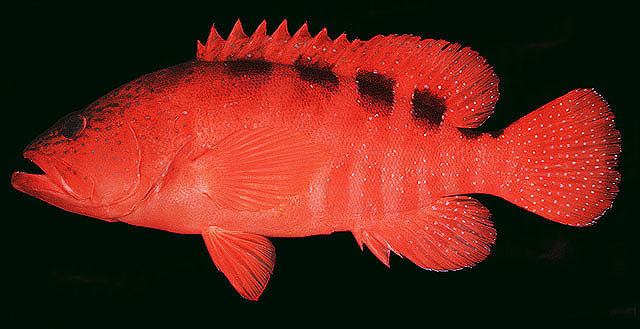fish: (12, 19, 622, 302)
